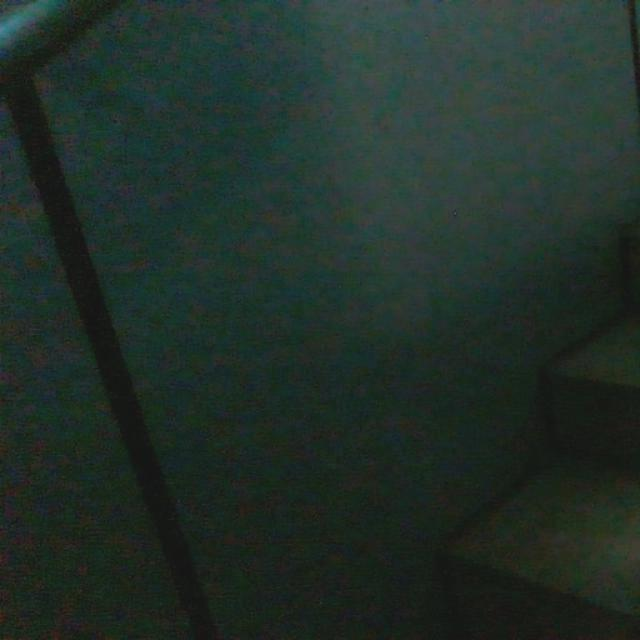stair: (479, 315, 640, 619)
